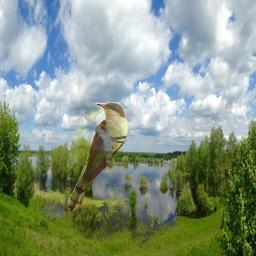Cuckoo: (67, 102, 128, 213)
